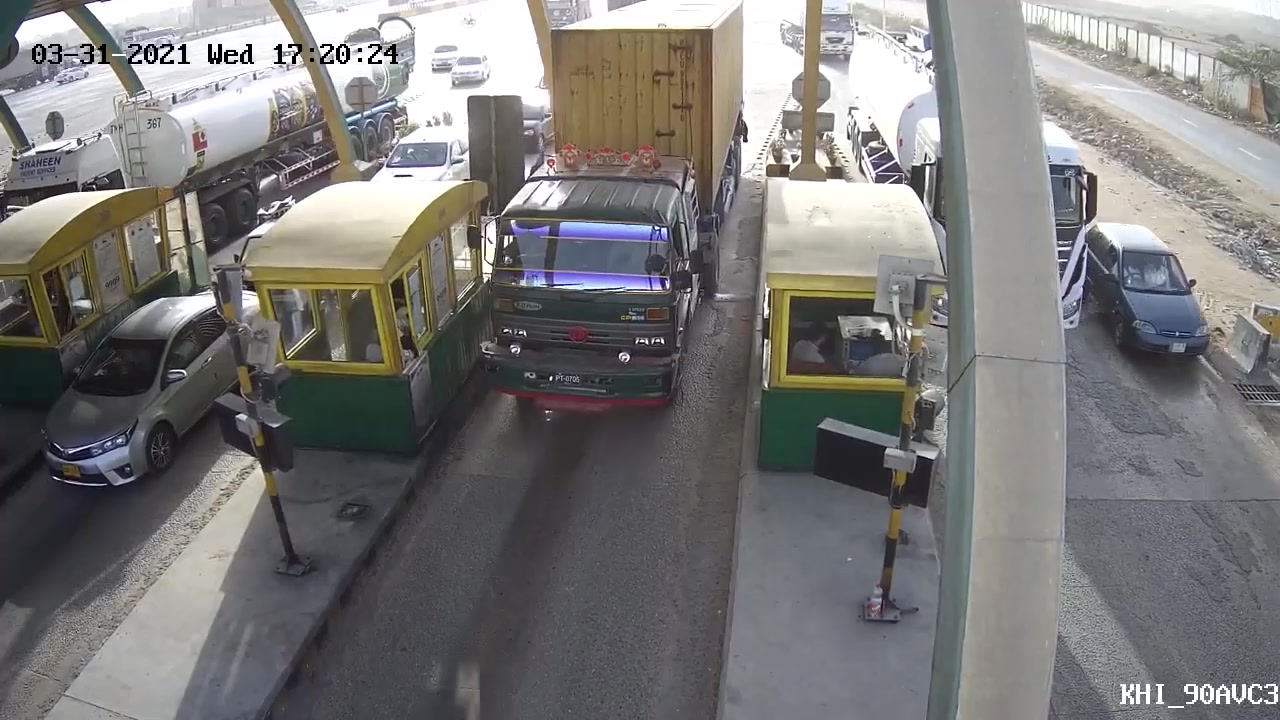F6: (485, 1, 752, 427)
